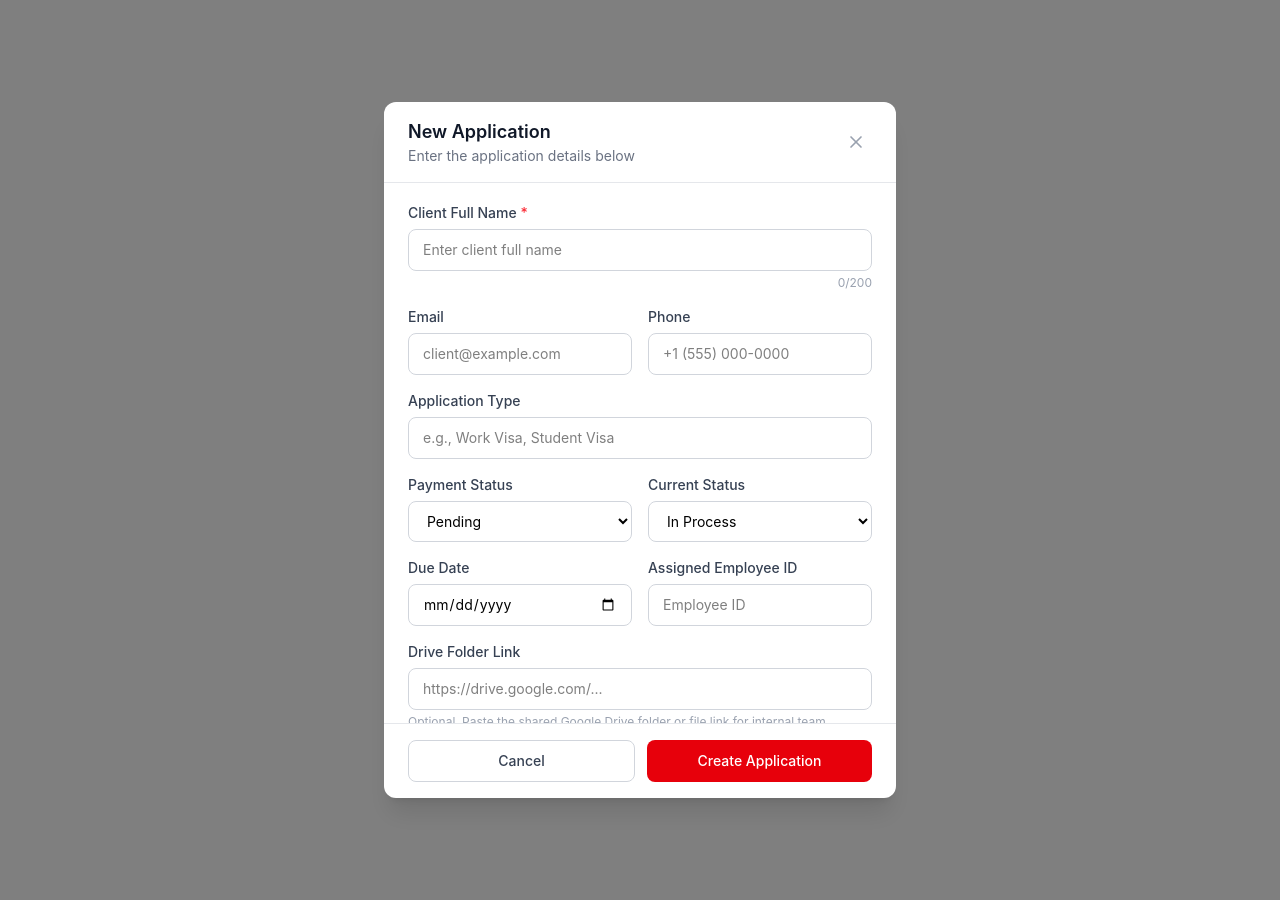
Test: AddApplicationModal Component › Validation › should show error when client name is empty
Step 1. Click the button "Create Application" → click(760, 761), box left=647, top=740, right=872, bottom=782
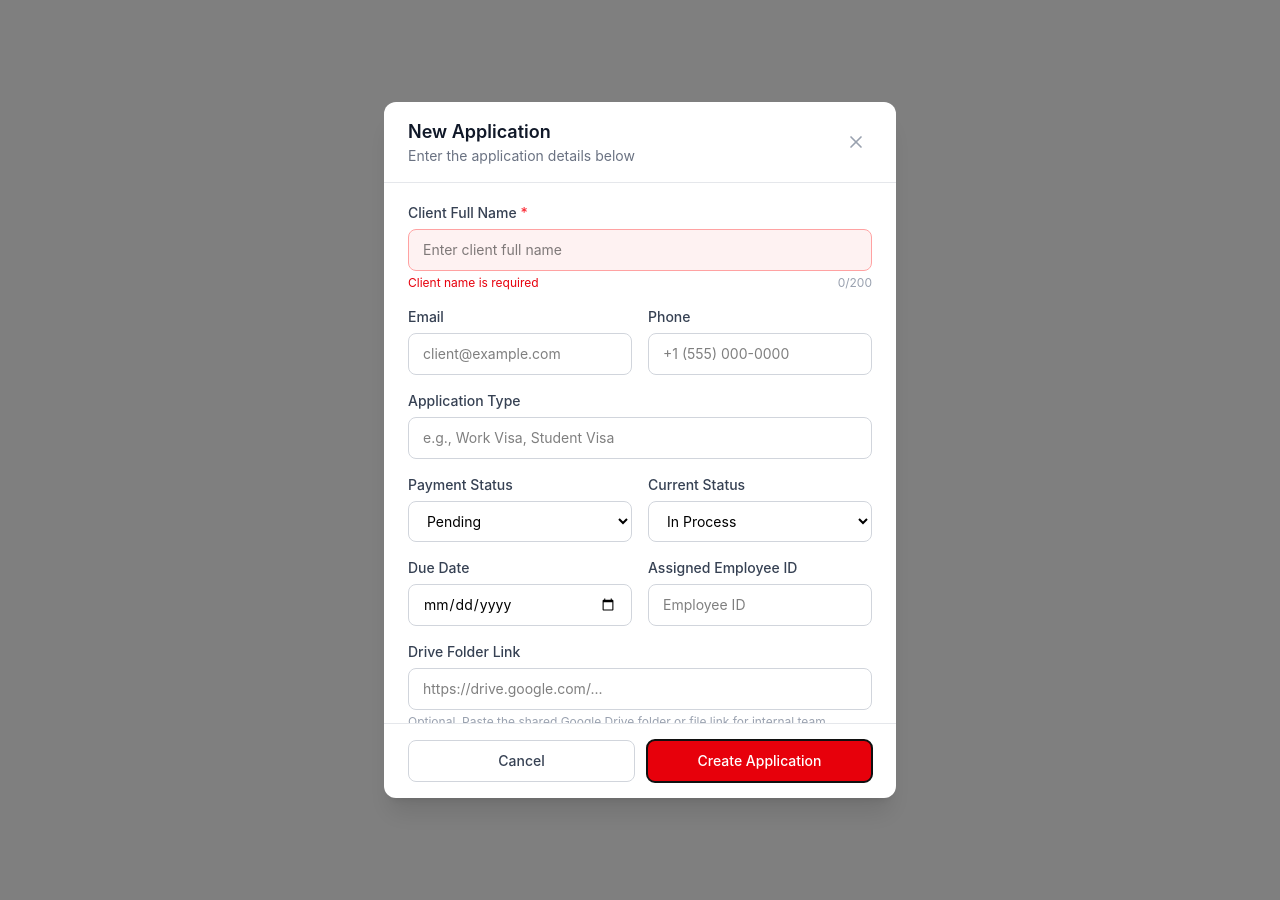
expect the text "Client name is required" is shown: met, box left=408, top=275, right=539, bottom=291
